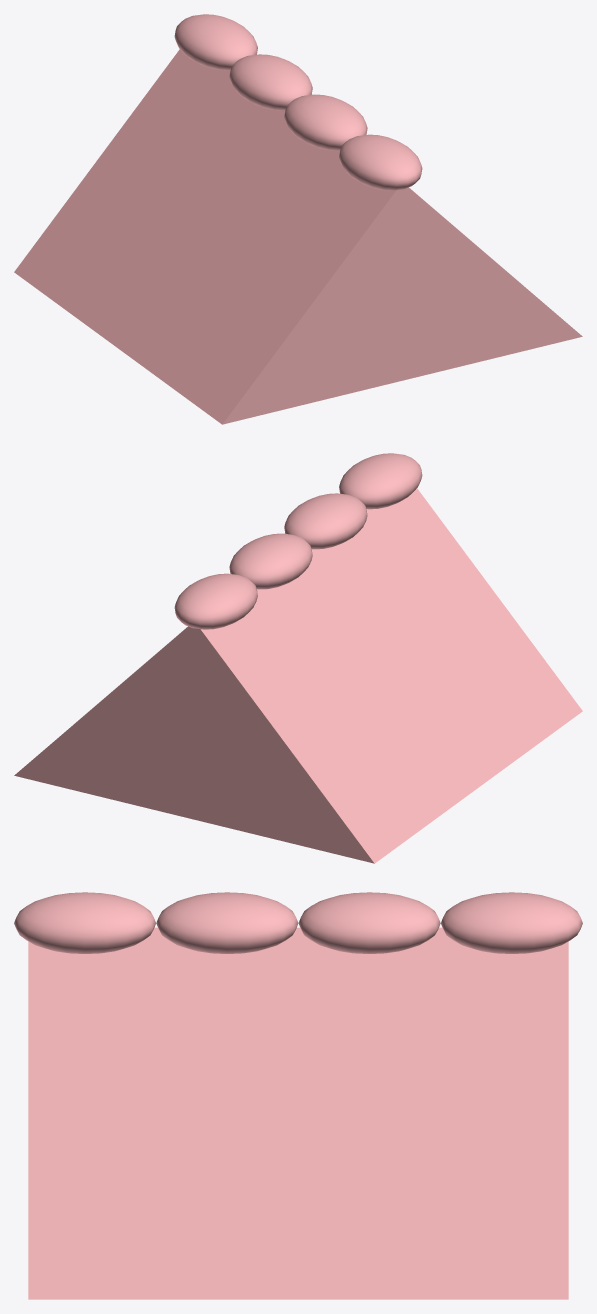
File: roof-coral.glb
3 renders of one model, top to bottom at view 1: azimuth 30°, elevation 25°; view 2: azimuth 150°, elevation 25°; view 3: azimuth 270°, elevation 25°, orthographic. The views are drawn at different scales.
Parts seen in each view (by area): view 1: gable, ridge_tile (×4); view 2: gable, ridge_tile (×4); view 3: gable, ridge_tile (×4).
Part boxes in pixels (bbox=[...]): gable: bbox=[14, 49, 582, 424]; ridge_tile (×4): bbox=[174, 14, 422, 190]; gable: bbox=[14, 488, 582, 863]; ridge_tile (×4): bbox=[174, 453, 422, 629]; gable: bbox=[28, 927, 568, 1299]; ridge_tile (×4): bbox=[14, 892, 582, 953].
Bounding box in the file's own units: 1.14 × 0.665 × 1.2.
